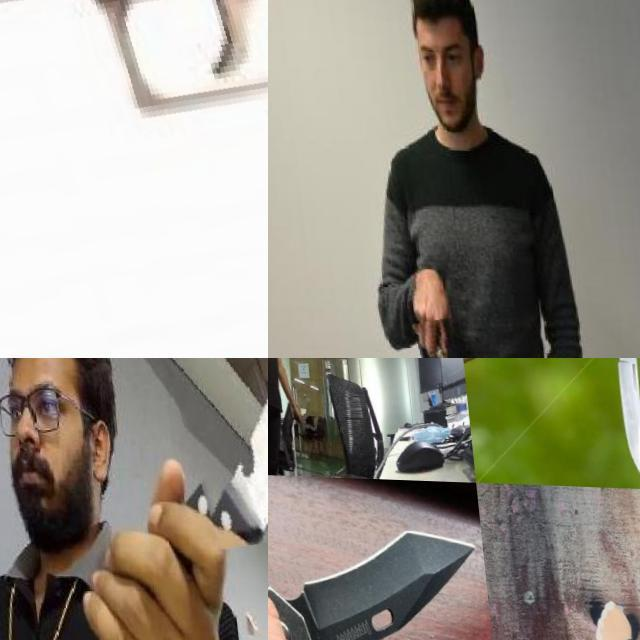-: (268, 509, 482, 640), (147, 358, 268, 543), (581, 358, 640, 480), (537, 594, 613, 640), (407, 315, 467, 358), (296, 416, 311, 432)
gun-knife-thesis - v11 Yolov5 augmented: (0, 0, 268, 358)
